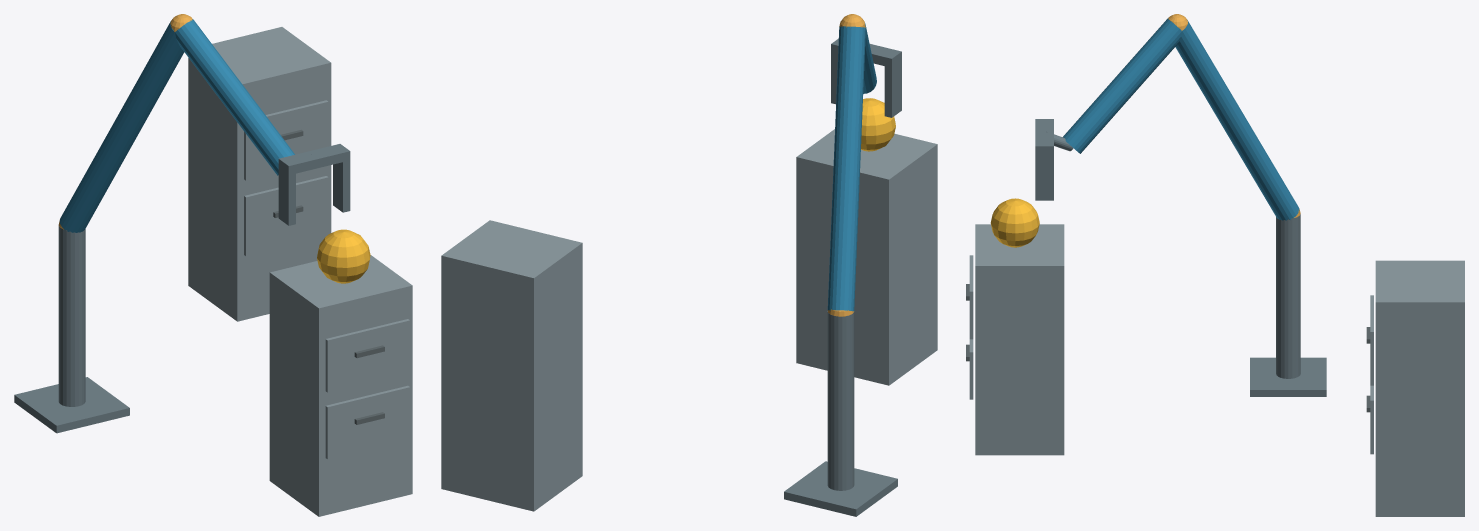
3 views of the same model, side by side, from view 1: azimuth 30°, elevation 25°; view 2: azimuth 150°, elevation 25°; view 3: azimuth 270°, elevation 25° (orthographic). The views are drawn at different scales.
Visible parts, largest first — view 1: cabinet_1 body, cabinet_2 body, moving link 1, fixed post, moving link 2, cabinet_2 drawer front, cabinet_1 drawer front, cabinet_1 drawer front.001, pedestal, cabinet_2 drawer front.001, ball ball_1, gripper bridge (+2 smaller); view 2: cabinet_2 body, cabinet_1 body, moving link 1, fixed post, pedestal, ball ball_1, gripper finger -1, gripper bridge, moving link 2; view 3: cabinet_2 body, cabinet_1 body, moving link 1, fixed post, moving link 2, pedestal, ball ball_1, gripper finger 1, gripper bridge.
Boxes of the visible parts, x1=… form: cabinet_1 body: x1=269, y1=255, x2=412, y2=516; cabinet_2 body: x1=188, y1=27, x2=331, y2=321; moving link 1: x1=59, y1=21, x2=184, y2=232; fixed post: x1=58, y1=224, x2=85, y2=406; moving link 2: x1=175, y1=19, x2=294, y2=175; cabinet_2 drawer front: x1=244, y1=176, x2=328, y2=256; cabinet_1 drawer front: x1=325, y1=385, x2=409, y2=459; cabinet_1 drawer front.001: x1=325, y1=319, x2=409, y2=392; pedestal: x1=14, y1=377, x2=129, y2=433; cabinet_2 drawer front.001: x1=244, y1=100, x2=328, y2=180; ball ball_1: x1=317, y1=229, x2=370, y2=283; gripper bridge: x1=278, y1=144, x2=350, y2=175; cabinet_2 body: x1=441, y1=220, x2=582, y2=511; cabinet_1 body: x1=796, y1=129, x2=937, y2=385; moving link 1: x1=827, y1=26, x2=865, y2=311; fixed post: x1=827, y1=311, x2=854, y2=490; pedestal: x1=784, y1=461, x2=897, y2=516; ball ball_1: x1=861, y1=98, x2=895, y2=151; gripper finger -1: x1=884, y1=61, x2=901, y2=117; gripper bridge: x1=831, y1=38, x2=901, y2=67; moving link 2: x1=863, y1=23, x2=876, y2=93; cabinet_2 body: x1=1375, y1=260, x2=1464, y2=516; cabinet_1 body: x1=975, y1=224, x2=1064, y2=455; moving link 1: x1=1175, y1=20, x2=1299, y2=220; fixed post: x1=1276, y1=214, x2=1300, y2=378; moving link 2: x1=1063, y1=18, x2=1182, y2=153; pedestal: x1=1250, y1=357, x2=1326, y2=396; ball ball_1: x1=990, y1=198, x2=1039, y2=247; gripper finger 1: x1=1035, y1=154, x2=1053, y2=200; gripper bridge: x1=1035, y1=119, x2=1053, y2=154.
Bounding box in the file's own units: 1.17 × 1.39 × 1.62.
